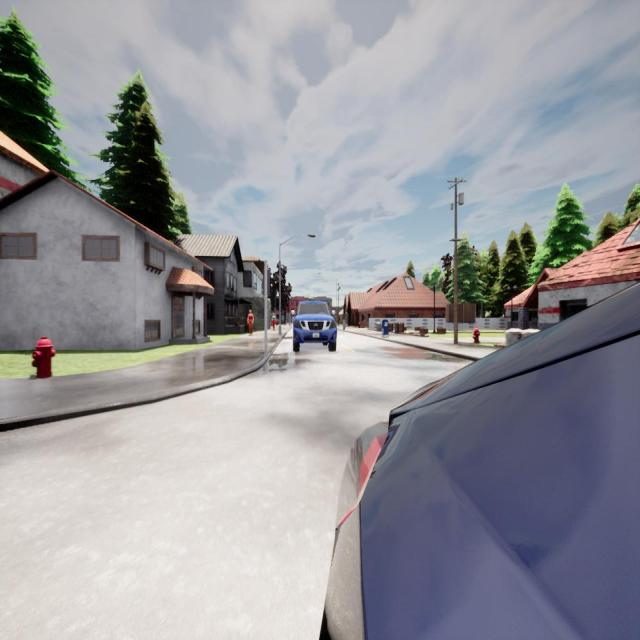Pedestrian: (247, 309, 254, 337), (270, 313, 276, 331)
Vehicle: (325, 283, 639, 638), (292, 300, 336, 351)
